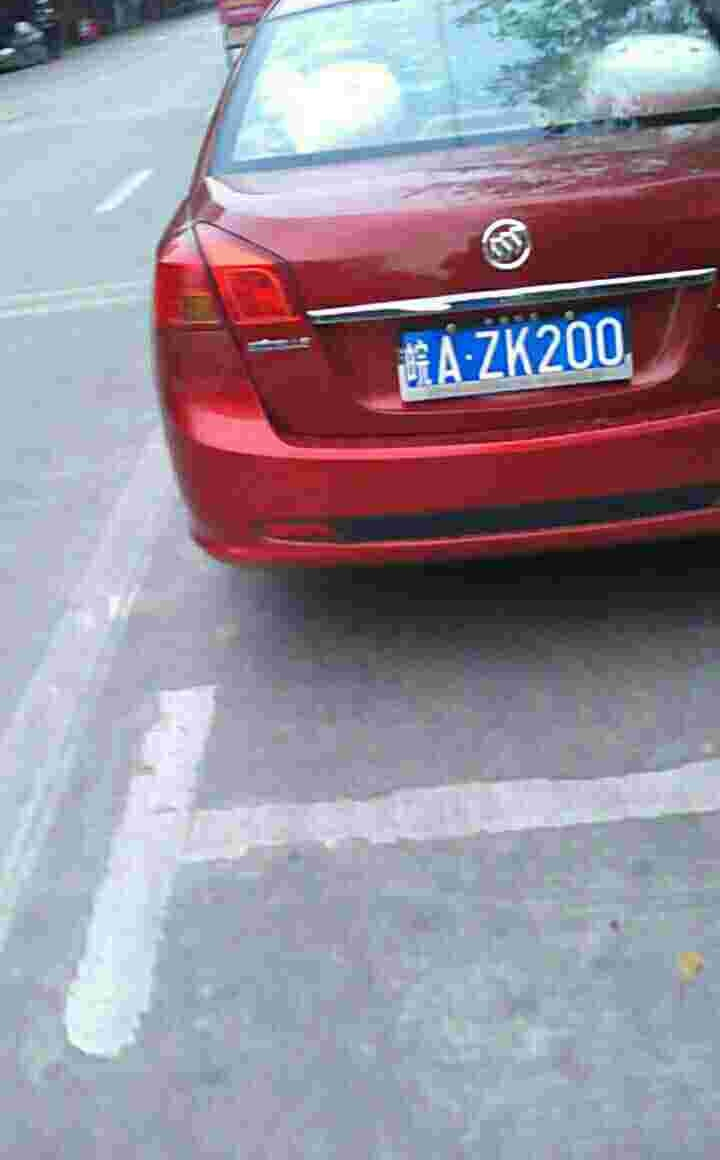license_plate: (398, 306, 635, 397)
